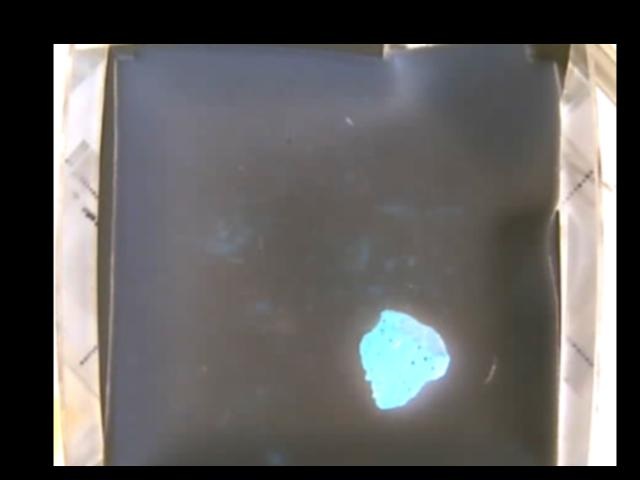Brisk: (363, 309, 448, 406)
